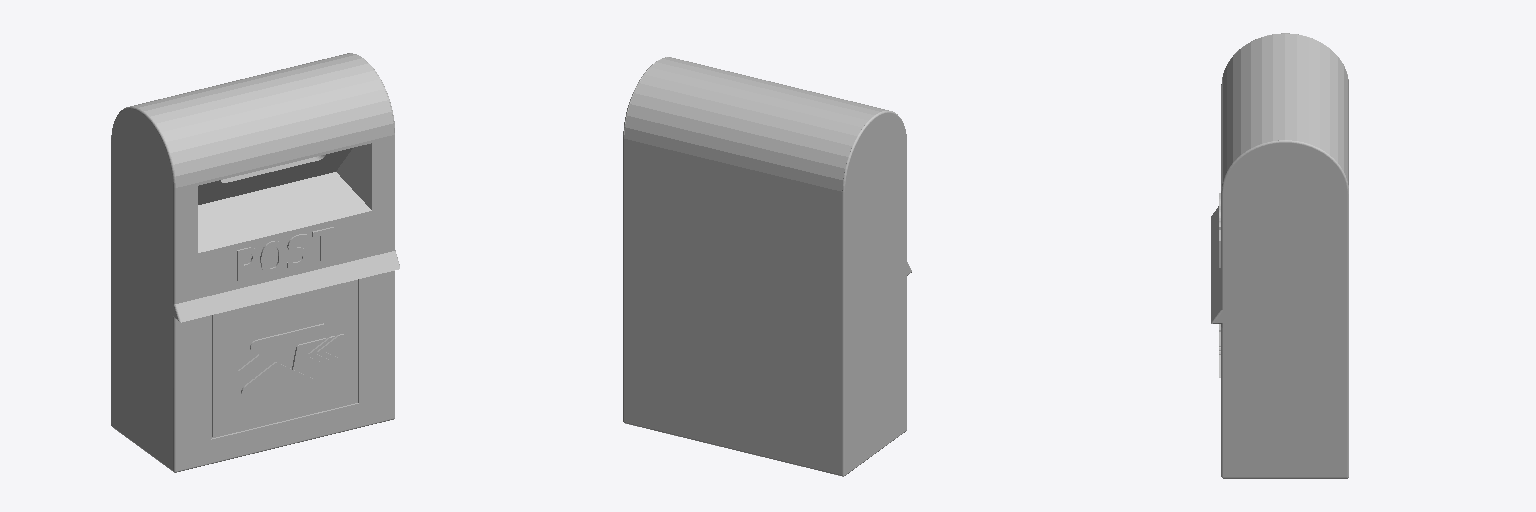
File: postbox.obj
3 renders of one model, left to right at view 1: azimuth 30°, elevation 25°; view 2: azimuth 150°, elevation 25°; view 3: azimuth 270°, elevation 25°, orthographic.
Visible parts, largest first — view 1: 본체2; view 2: 본체2; view 3: 본체2.
Boxes of the visible parts, box(x1,y1,x2,y2) form: 본체2: box(111, 53, 399, 472); 본체2: box(623, 57, 911, 476); 본체2: box(1211, 33, 1348, 478).
Size of the model in its own units: 3.17 by 4.62 by 1.72.